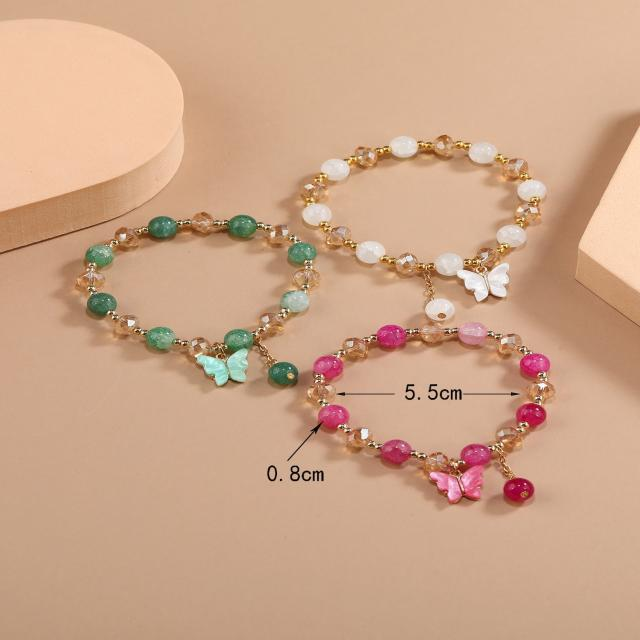bracelet: (29, 85, 640, 563)
